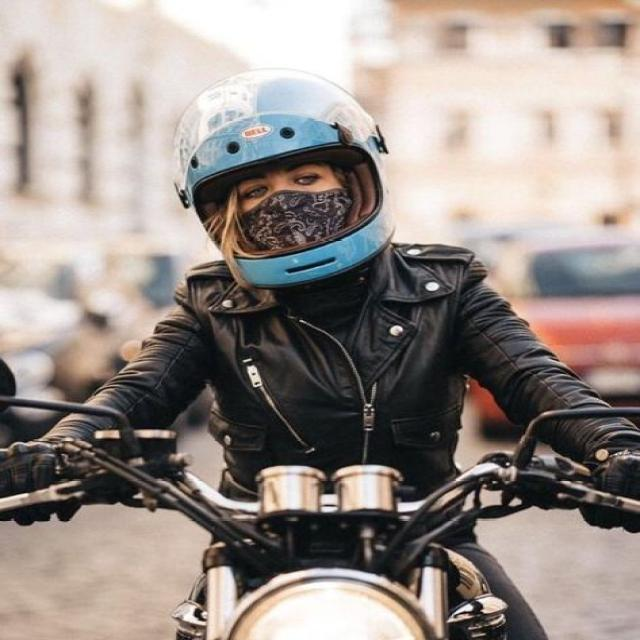Full-face-helmet: (172, 66, 395, 288)
